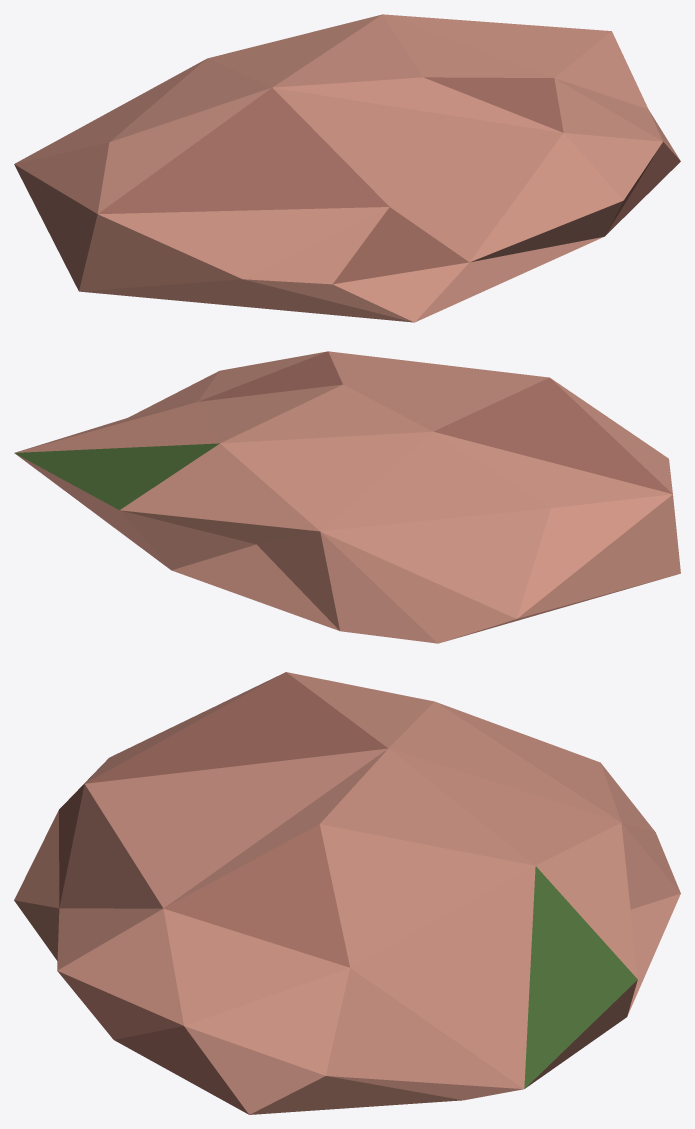
Rendered from hall_3.glb.
3 renders of one model, top to bottom at view 1: azimuth 30°, elevation 25°; view 2: azimuth 150°, elevation 25°; view 3: azimuth 270°, elevation 25°, orthographic. The views are drawn at different scales.
Parts seen in each view (by area): view 1: hall_3; view 2: hall_3; view 3: hall_3.
Boxes of the visible parts, x1,y1,x2,y2 form: hall_3: (14,14,680,322); hall_3: (14,351,680,643); hall_3: (14,672,680,1114).
Bounding box in the file's own units: 3.51 × 0.6735 × 2.6.
